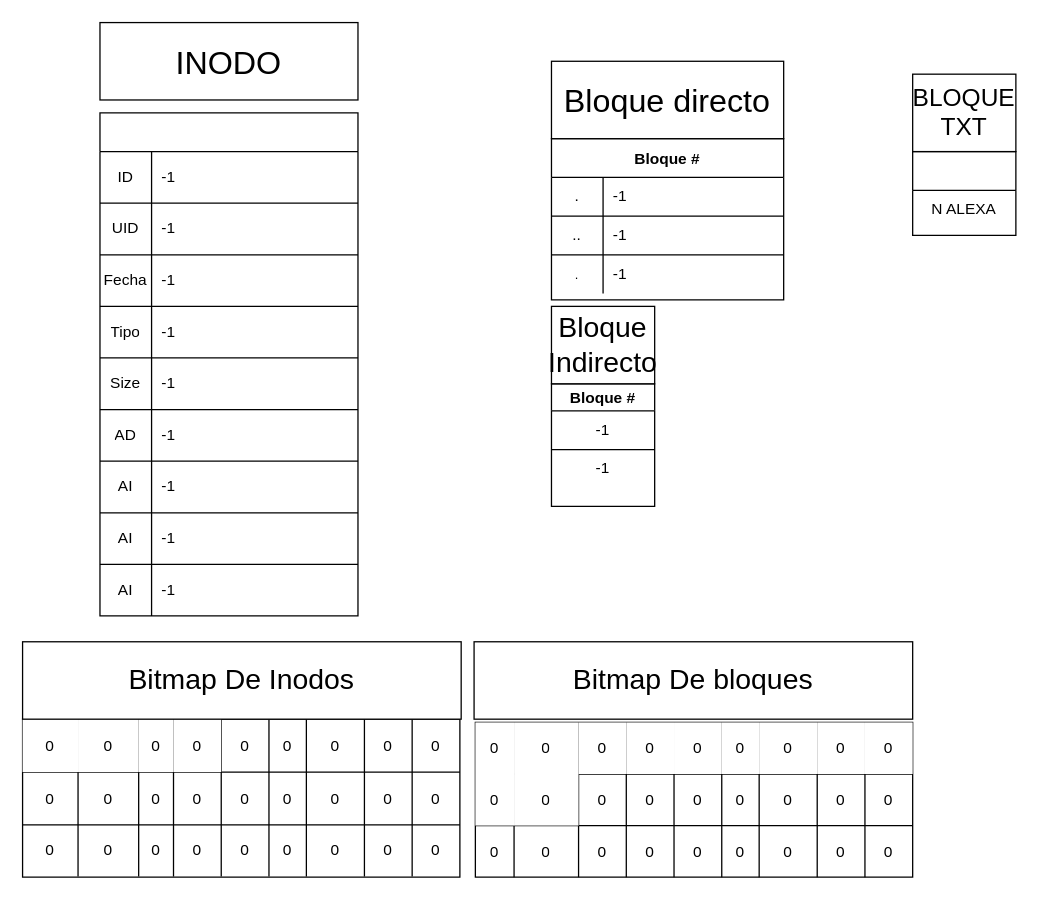
Image size: 1038x900. Some labels were removed from this diagram. Each missing label, with the box of its shape:
Bloque 5: (911, 150, 1016, 235)
I-nodo: (99, 112, 358, 616)
